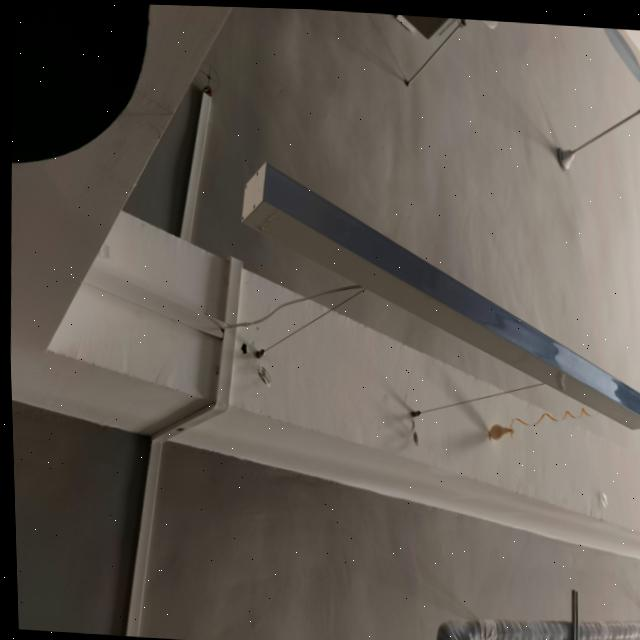light_off: (227, 151, 640, 435)
